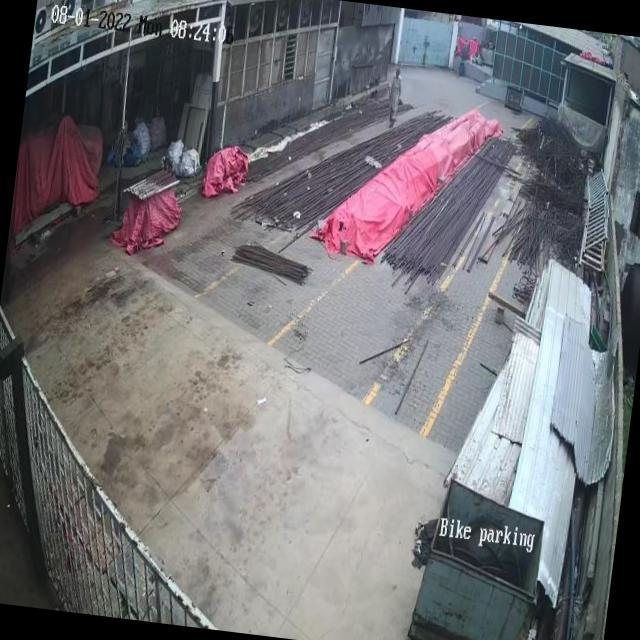person: (384, 62, 404, 125)
